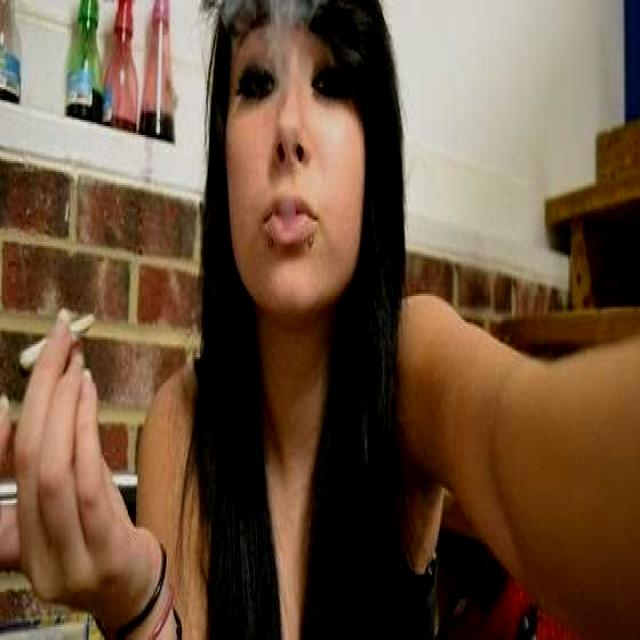Smooking: (16, 306, 97, 383)
